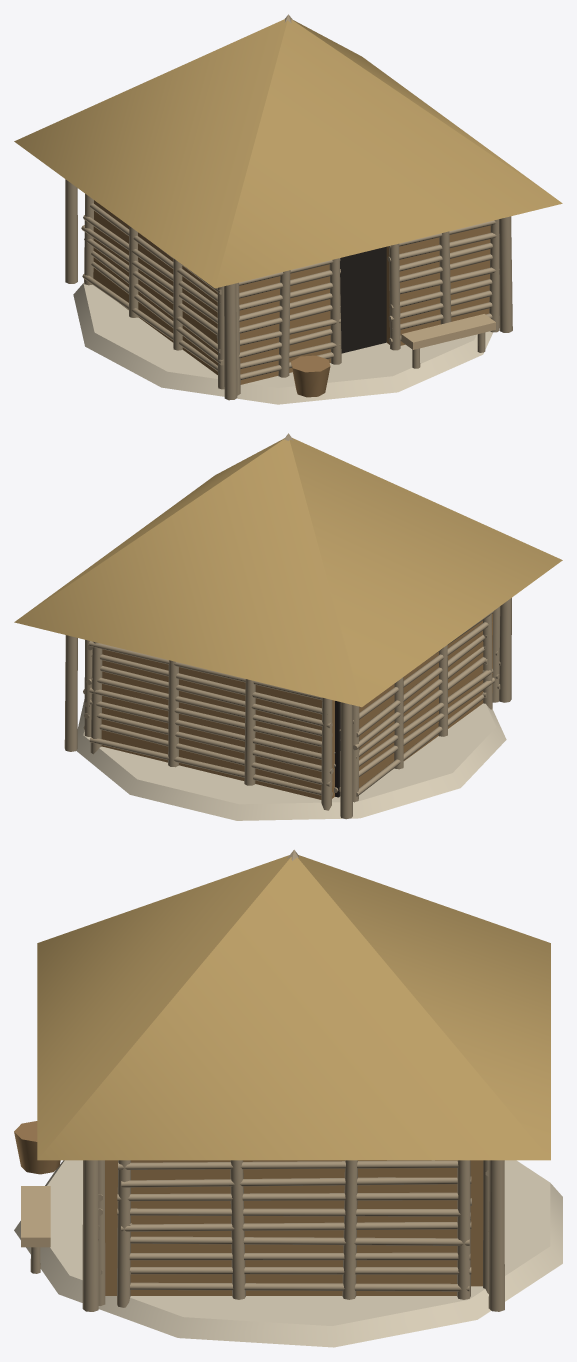
Rendered from bahareque-house-short.glb.
3 views of the same model, one above another, from view 1: azimuth 30°, elevation 25°; view 2: azimuth 150°, elevation 25°; view 3: azimuth 270°, elevation 25° (orthographic). The views are drawn at different scales.
Visible parts, largest first — view 1: thatch_main, ground, wall_front_right_daub, interior, wall_front_left_daub, wall_left_daub, wall_front_right, wall_left, wall_front_left, bench_top, corner_post_1_1, corner_post_-1_1 (+23 smaller); view 2: thatch_main, ground, wall_back_daub, wall_left_daub, wall_back, wall_left, corner_post_1_-1, corner_post_-1_-1, wall_back_stick_4_o, wall_back_stick_6_o, wall_back_stick_0_o, wall_back_stick_1_o (+16 smaller); view 3: thatch_main, ground, wall_right_daub, wall_right, wall_right_stick_8_o, wall_right_stick_7_o, wall_right_stick_0_o, wall_right_stick_2_o, wall_right_stick_5_o, wall_right_stick_4_o, wall_right_stick_3_o, wall_right_stick_6_o (+9 smaller).
Boxes of the visible parts, box(x1,y1,x2,y2) form: thatch_main: box(14, 19, 562, 288); ground: box(73, 282, 493, 404); wall_front_right_daub: box(386, 225, 490, 345); interior: box(340, 246, 386, 353); wall_front_left_daub: box(239, 264, 330, 384); wall_left_daub: box(93, 200, 217, 374); wall_front_right: box(389, 219, 499, 350); wall_left: box(84, 193, 224, 389); wall_front_left: box(236, 258, 341, 395); bench_top: box(401, 314, 495, 349); corner_post_1_1: box(499, 216, 512, 332); corner_post_-1_1: box(224, 283, 237, 400); thatch_main: box(14, 438, 562, 707); ground: box(76, 699, 506, 820); wall_back_daub: box(101, 649, 334, 799); wall_left_daub: box(359, 621, 483, 787); wall_back: box(90, 641, 332, 810); wall_left: box(353, 614, 492, 802); corner_post_1_-1: box(64, 635, 77, 751); corner_post_-1_-1: box(340, 702, 352, 819); wall_back_stick_4_o: box(89, 687, 321, 746); wall_back_stick_6_o: box(100, 666, 332, 728); wall_back_stick_0_o: box(89, 737, 332, 796); wall_back_stick_1_o: box(99, 724, 332, 786); thatch_main: box(37, 855, 550, 1160); ground: box(14, 1160, 562, 1347); wall_right_daub: box(130, 1160, 457, 1295); wall_right: box(117, 1160, 470, 1307); wall_right_stick_8_o: box(118, 1160, 458, 1169); wall_right_stick_7_o: box(121, 1176, 471, 1187); wall_right_stick_0_o: box(130, 1282, 469, 1291); wall_right_stick_2_o: box(129, 1252, 470, 1260); wall_right_stick_5_o: box(117, 1208, 460, 1216); wall_right_stick_4_o: box(121, 1222, 471, 1231); wall_right_stick_3_o: box(130, 1236, 469, 1245); wall_right_stick_6_o: box(117, 1192, 458, 1201).
Size of the model in its own units: 6.33 by 4.8 by 6.27.
